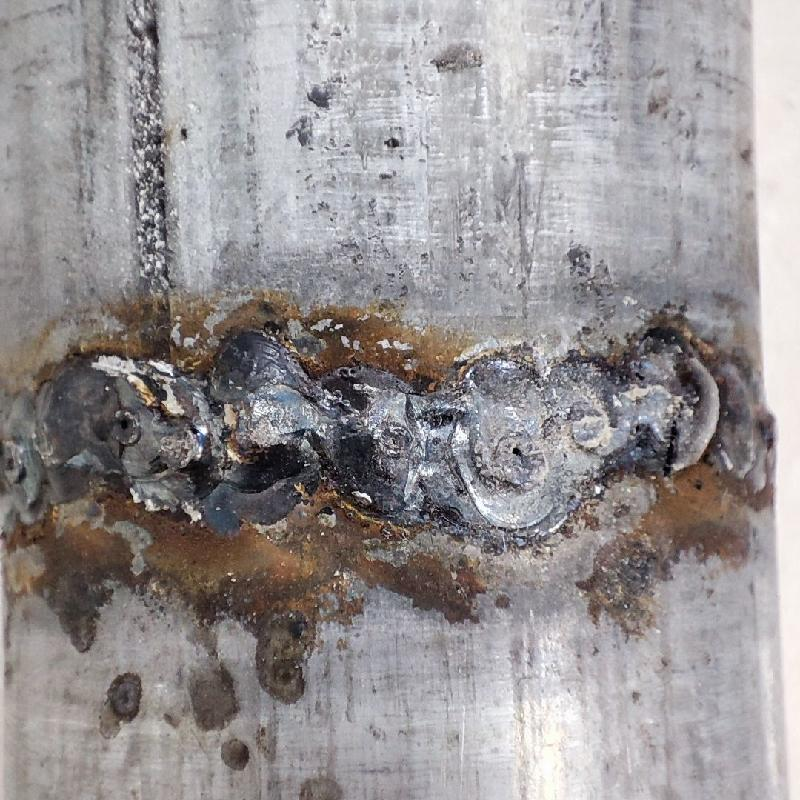Not_fully_soldered: (428, 347, 623, 535)
Surface_pores: (99, 406, 152, 445), (498, 431, 540, 478)
wrong_size: (637, 321, 781, 505)
